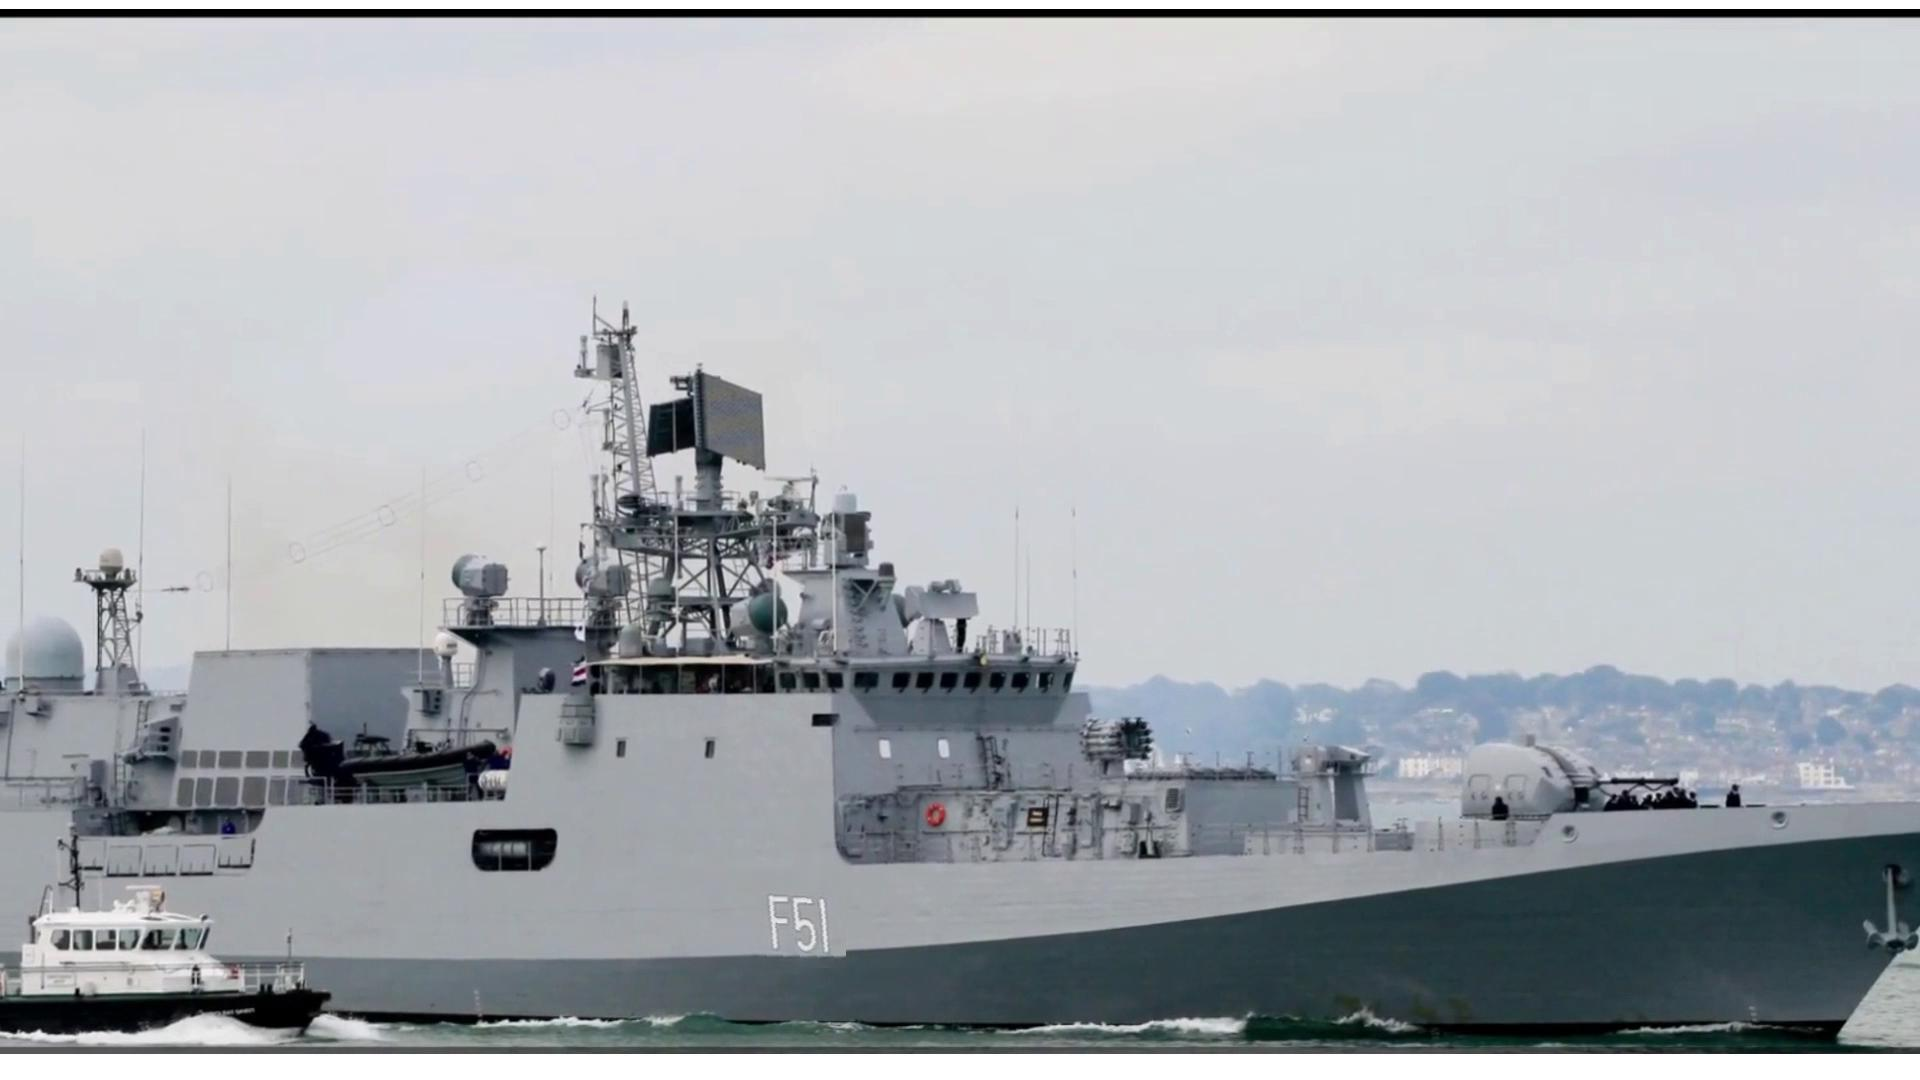OCR: (745, 878, 847, 968)
